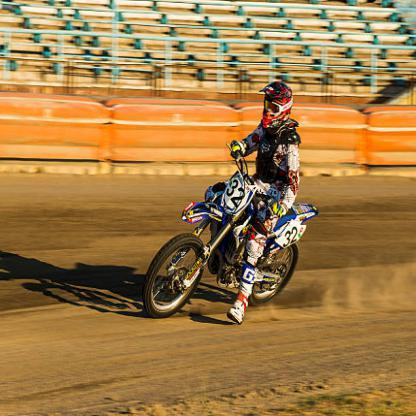Motorcycle: (140, 151, 318, 322)
